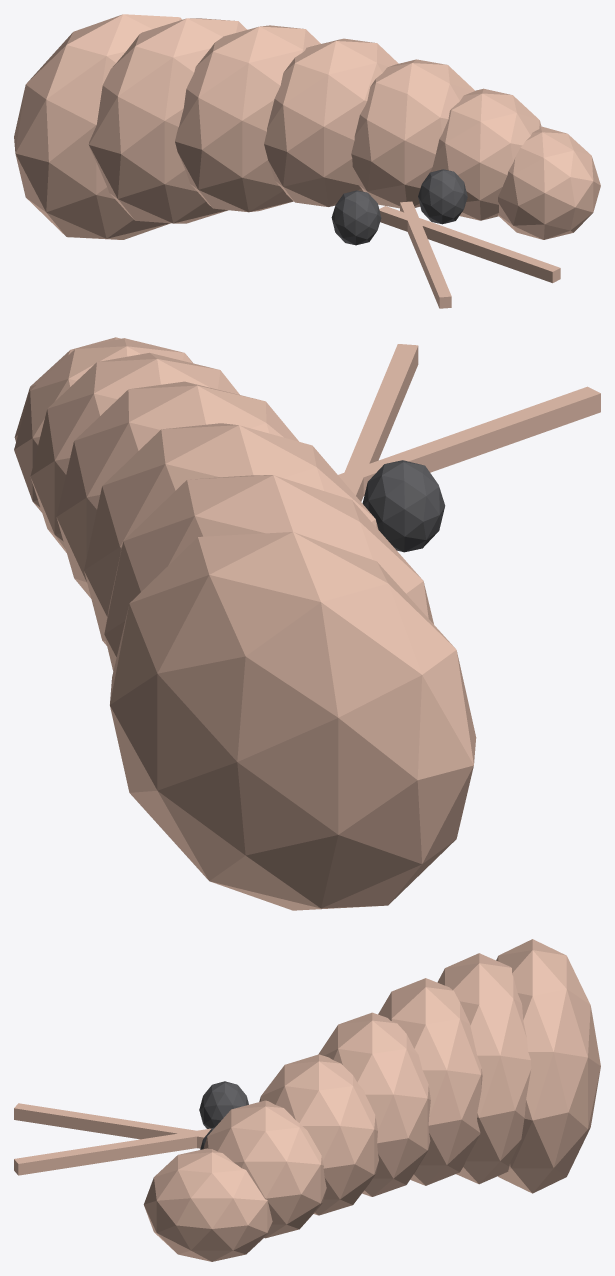
File: Raw_Shrimp.glb
3 renders of one model, top to bottom at view 1: azimuth 30°, elevation 25°; view 2: azimuth 150°, elevation 25°; view 3: azimuth 270°, elevation 25°, orthographic. The views are drawn at different scales.
Visible parts, largest first — view 1: Raw_Shrimp_0, Raw_Shrimp_1; view 2: Raw_Shrimp_0, Raw_Shrimp_1; view 3: Raw_Shrimp_0, Raw_Shrimp_1.
Part boxes in pixels (box(x1,y1,x2,y2)): Raw_Shrimp_0: box(14, 14, 600, 308); Raw_Shrimp_1: box(331, 169, 467, 245); Raw_Shrimp_0: box(14, 337, 600, 910); Raw_Shrimp_1: box(362, 460, 445, 552); Raw_Shrimp_0: box(14, 939, 600, 1261); Raw_Shrimp_1: box(199, 1081, 248, 1149).
Size of the model in its own units: 0.1166 by 0.0615 by 0.1373.
